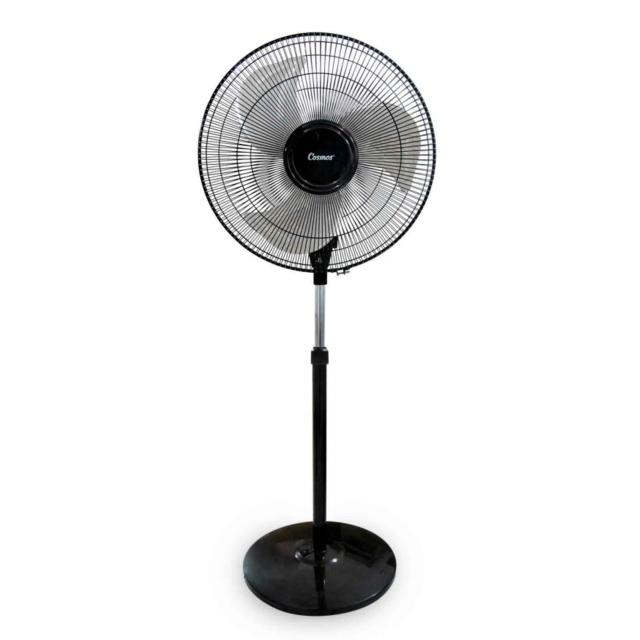fan: (195, 28, 438, 626)
